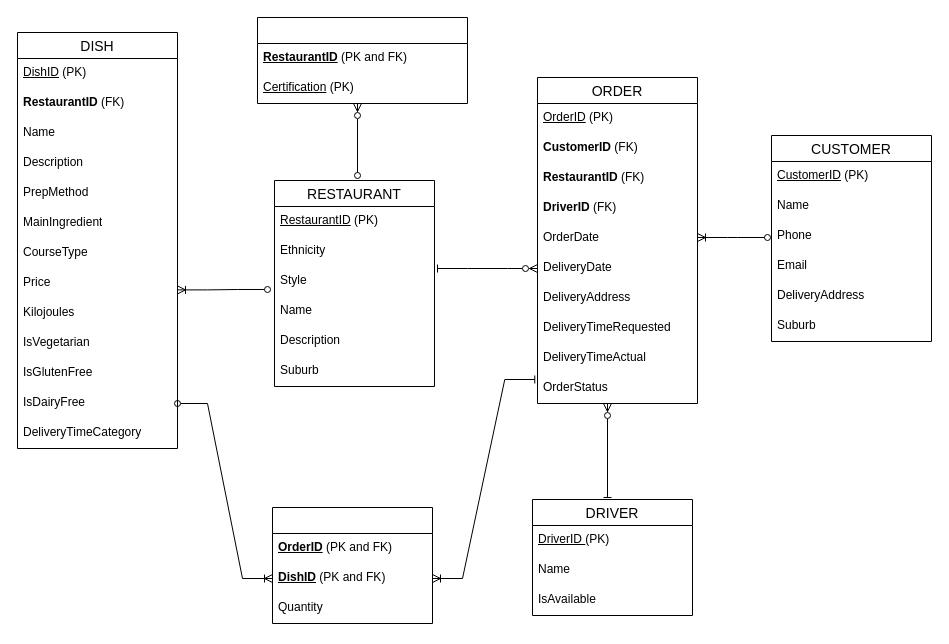
Image size: 949x644. Some labels were removed from this diagram. Each missing label, with the box of its shape:
ORDER_DISH: (272, 506, 432, 624)
RESTAURANT_CERTIFICATION: (256, 16, 468, 104)
